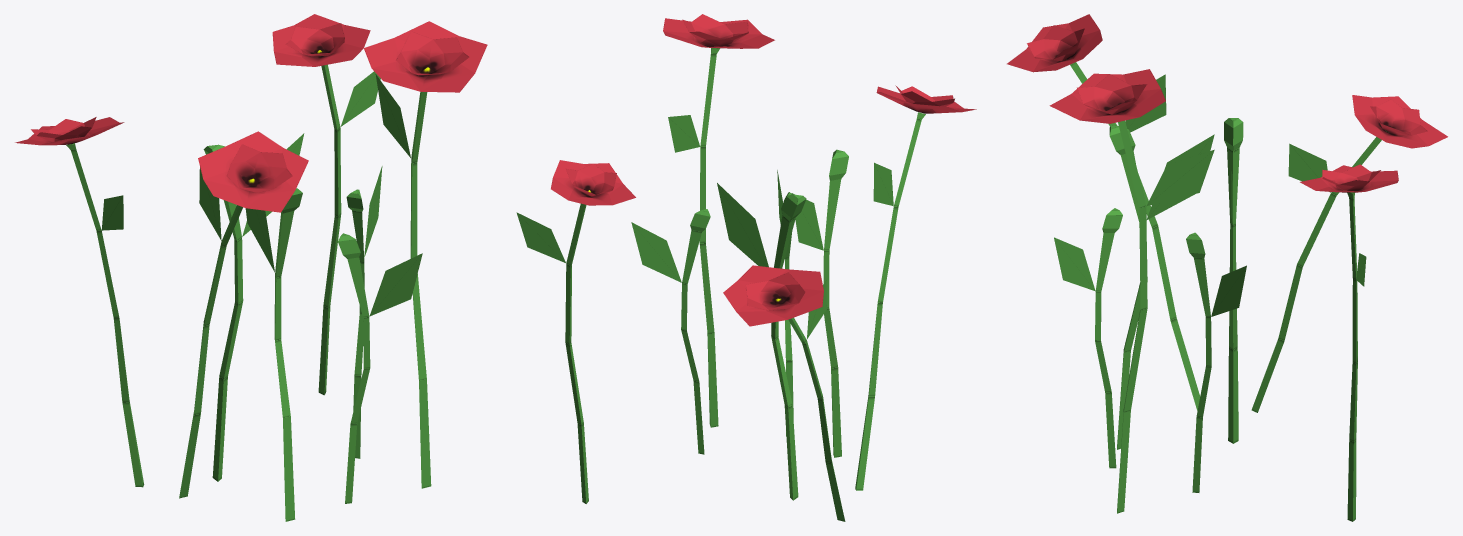
Rendered from Poppy_2.fbx.
3 views of the same model, side by side, from view 1: azimuth 30°, elevation 25°; view 2: azimuth 150°, elevation 25°; view 3: azimuth 270°, elevation 25° (orthographic). The views are drawn at different scales.
Parts seen in each view (by area): view 1: Poppy_2; view 2: Poppy_2; view 3: Poppy_2.
Part boxes in pixels (x1,y1,x2,y2): Poppy_2: (15,14,487,521); Poppy_2: (516,14,976,521); Poppy_2: (1007,14,1447,521).
Size of the model in its own units: 1.02 by 1.14 by 1.22.
